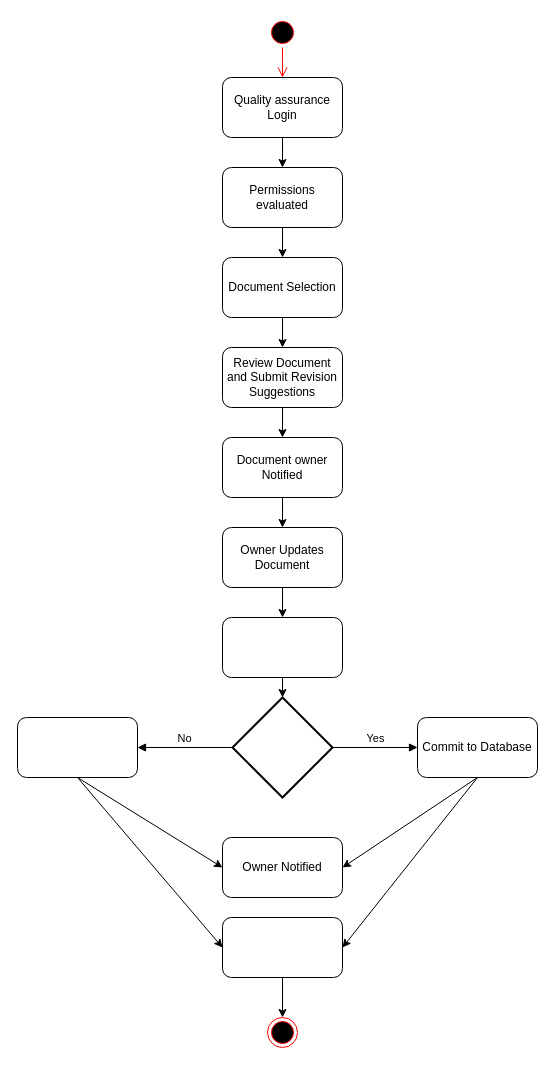
This 555x1065 diagram has some shape labels left out. Each missing label, with the centre of its shape:
"Manager Approval" belongs at point 282,747.
"Manager Notified" belongs at point 282,647.
"Non commit to Database" belongs at point 77,747.
"Quality Notified" belongs at point 282,947.
